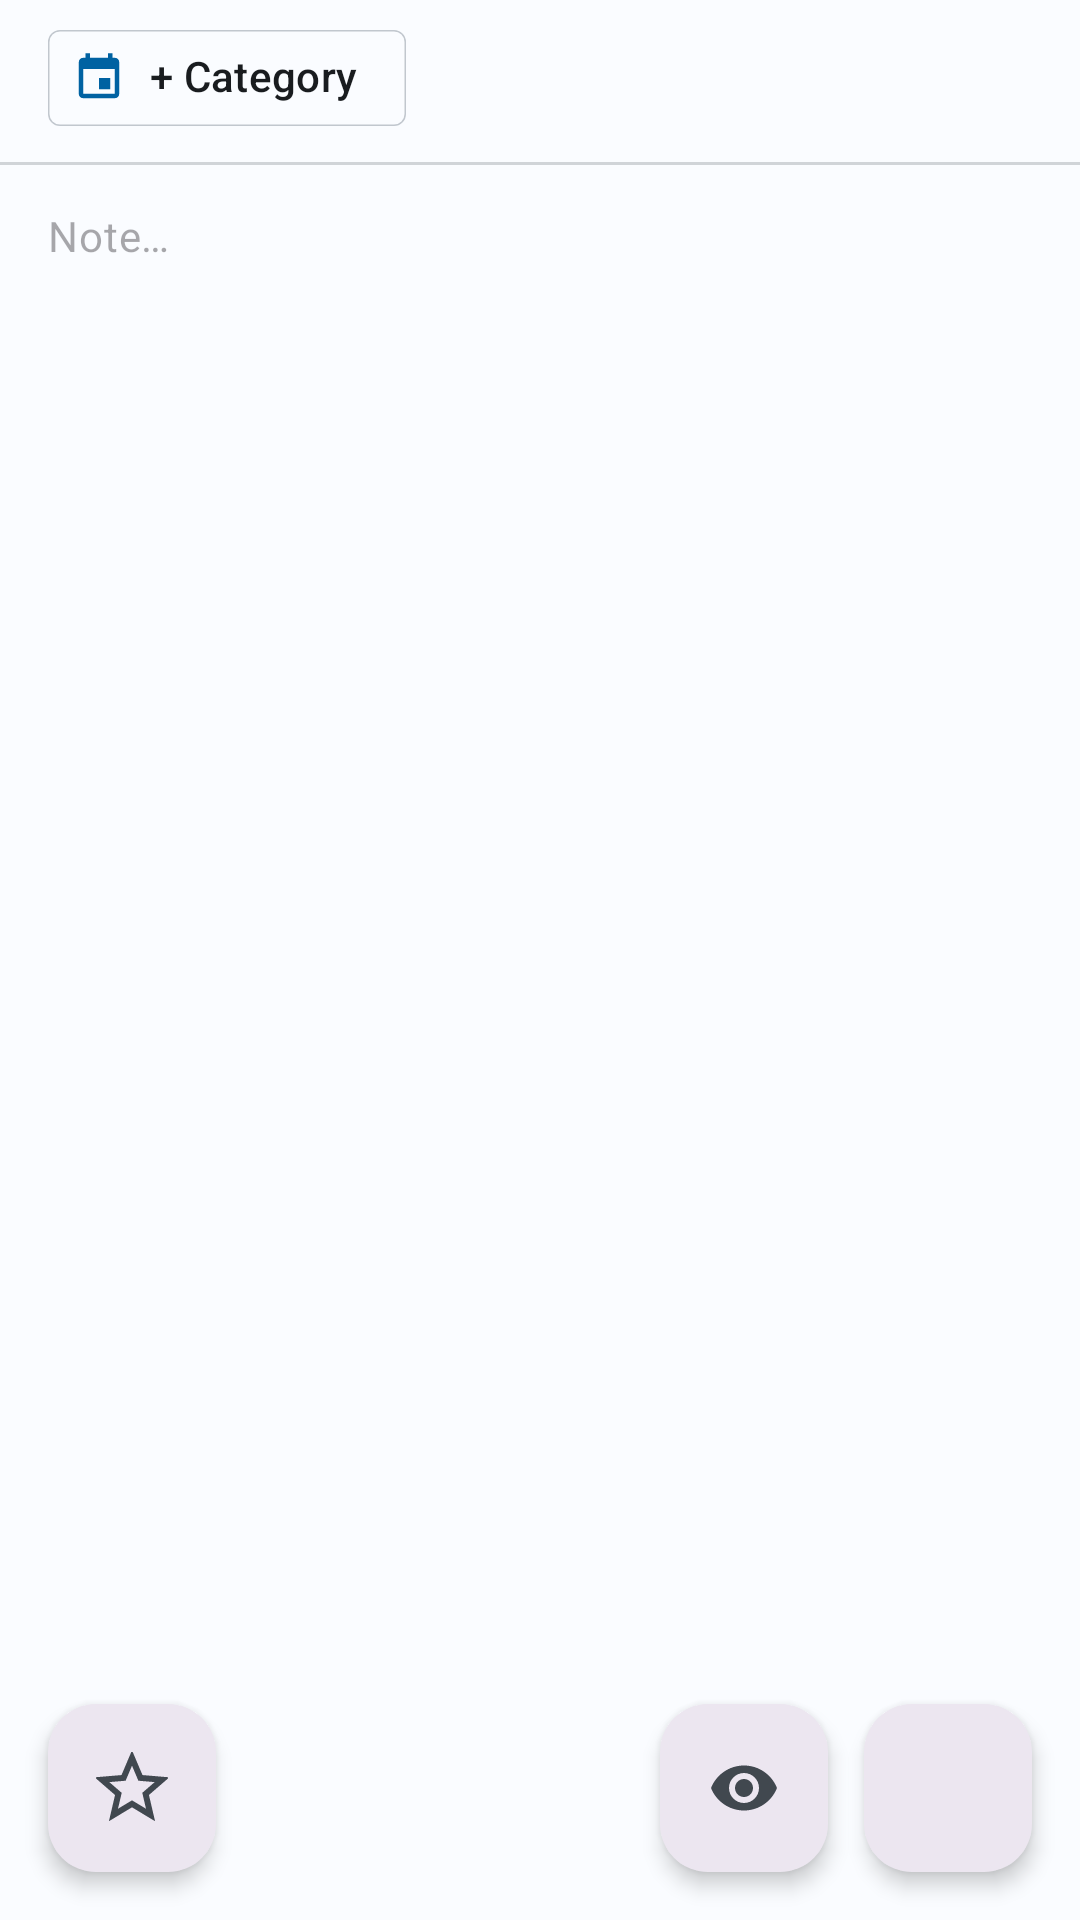

Icon bounding boxes for this 1080*1920 phone screenshot, format bbox=(x1, y1, x2, y2):
Favorite: bbox=(48, 1704, 216, 1872)
Preview: bbox=(711, 1765, 777, 1811)
